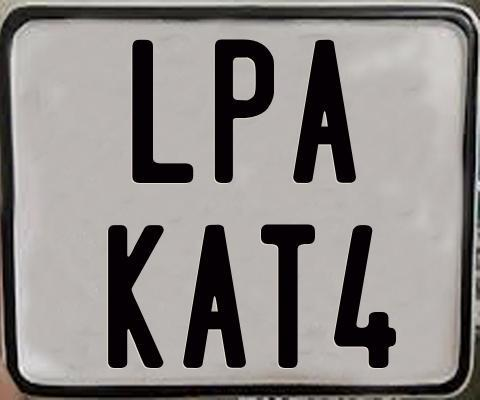4: (332, 223, 398, 372)
A: (182, 223, 249, 369), (293, 39, 357, 182)
K: (106, 224, 167, 367)
L: (131, 40, 198, 188)
P: (213, 39, 273, 189)
T: (258, 224, 317, 373)
